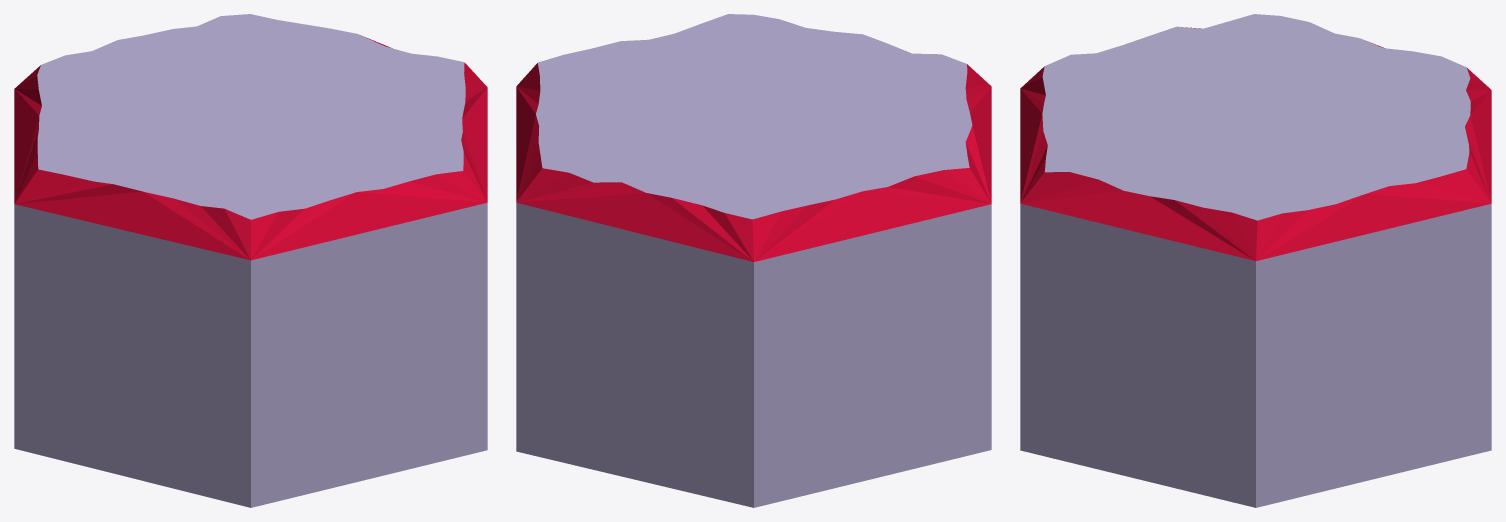
Rendered from HexTile.fbx.
The picture shows the model from 3 angles, left to right: view 1: azimuth 30°, elevation 25°; view 2: azimuth 150°, elevation 25°; view 3: azimuth 270°, elevation 25°; orthographic projection.
Parts seen in each view (by area): view 1: Cylinder; view 2: Cylinder; view 3: Cylinder.
Part boxes in pixels (box(x1,y1,x2,y2)): Cylinder: box(14, 14, 487, 507); Cylinder: box(516, 14, 991, 507); Cylinder: box(1020, 14, 1491, 507).
Bounding box in the file's own units: 200 × 114 × 173.
